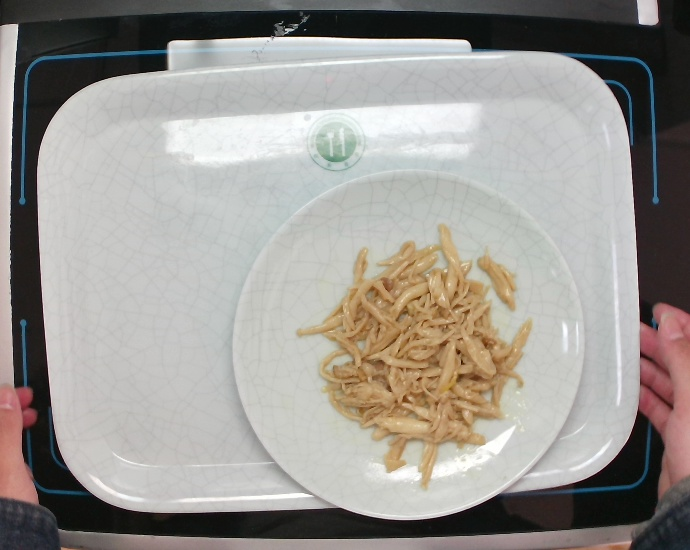JYsf-Da_Yuan_Pan: (227, 166, 594, 529)
